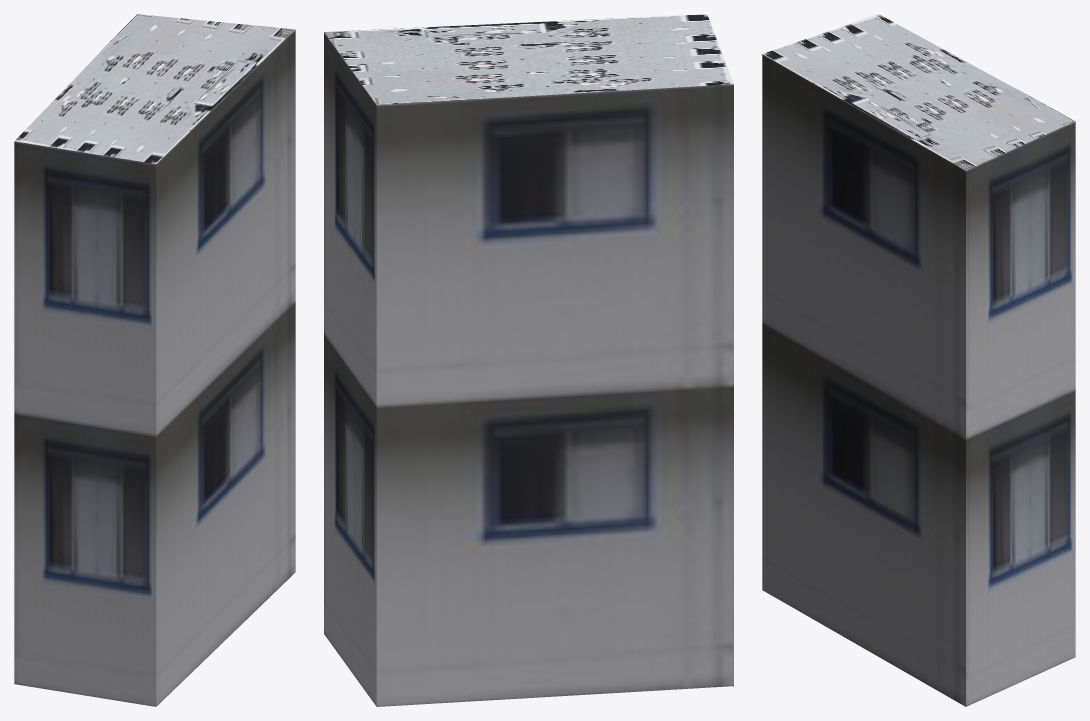
The model's file is ResTex__2832.fbx.
3 views of the same model, side by side, from view 1: azimuth 30°, elevation 25°; view 2: azimuth 150°, elevation 25°; view 3: azimuth 270°, elevation 25° (orthographic). The views are drawn at different scales.
Visible parts, largest first — view 1: CityEngineMaterial_9_m, CityEngineMaterial_4_m; view 2: CityEngineMaterial_9_m, CityEngineMaterial_4_m; view 3: CityEngineMaterial_9_m, CityEngineMaterial_4_m.
Part boxes in pixels (x1,y1,x2,y2): CityEngineMaterial_9_m: [14, 30, 295, 706]; CityEngineMaterial_4_m: [15, 14, 295, 163]; CityEngineMaterial_9_m: [324, 32, 733, 706]; CityEngineMaterial_4_m: [324, 14, 733, 104]; CityEngineMaterial_9_m: [762, 54, 1075, 706]; CityEngineMaterial_4_m: [763, 14, 1075, 170].
Size of the model in its own units: 3.76 by 6 by 3.18.
Materials: 2 (2 with a texture image).
